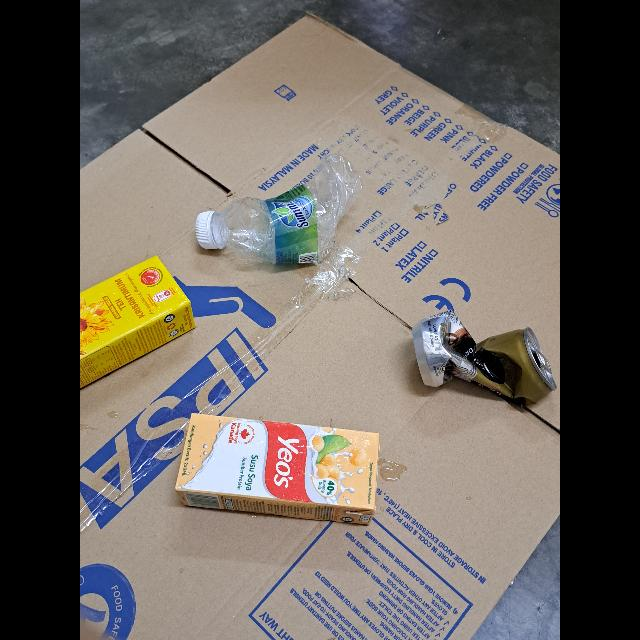caixinha: (182, 406, 380, 530), (80, 243, 190, 381)
garrafa plástica: (218, 150, 360, 268)
lata: (408, 312, 554, 414)
papelão: (80, 15, 560, 640)
tampa plástica: (194, 202, 214, 245)
